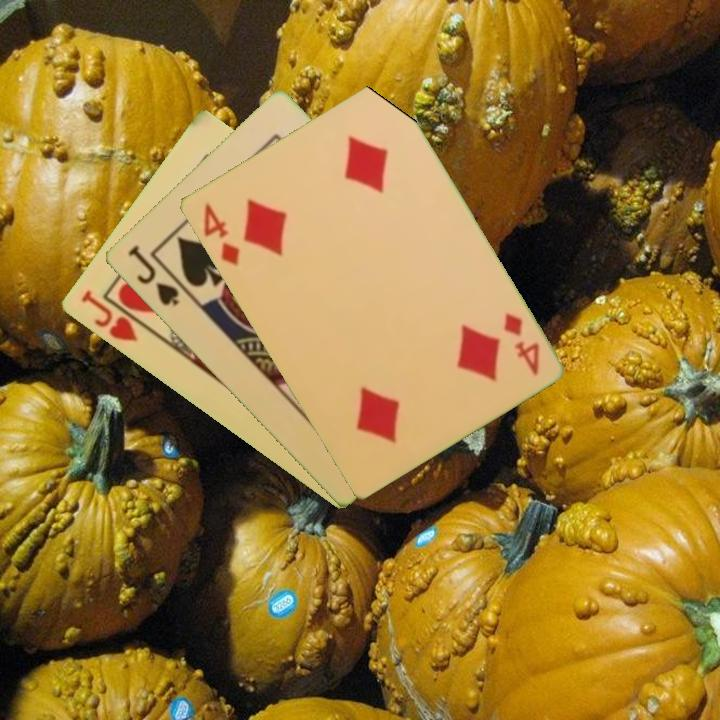4d: (199, 198, 242, 269), (499, 309, 542, 379)
Jh: (77, 286, 140, 345)
Js: (124, 241, 182, 309)
